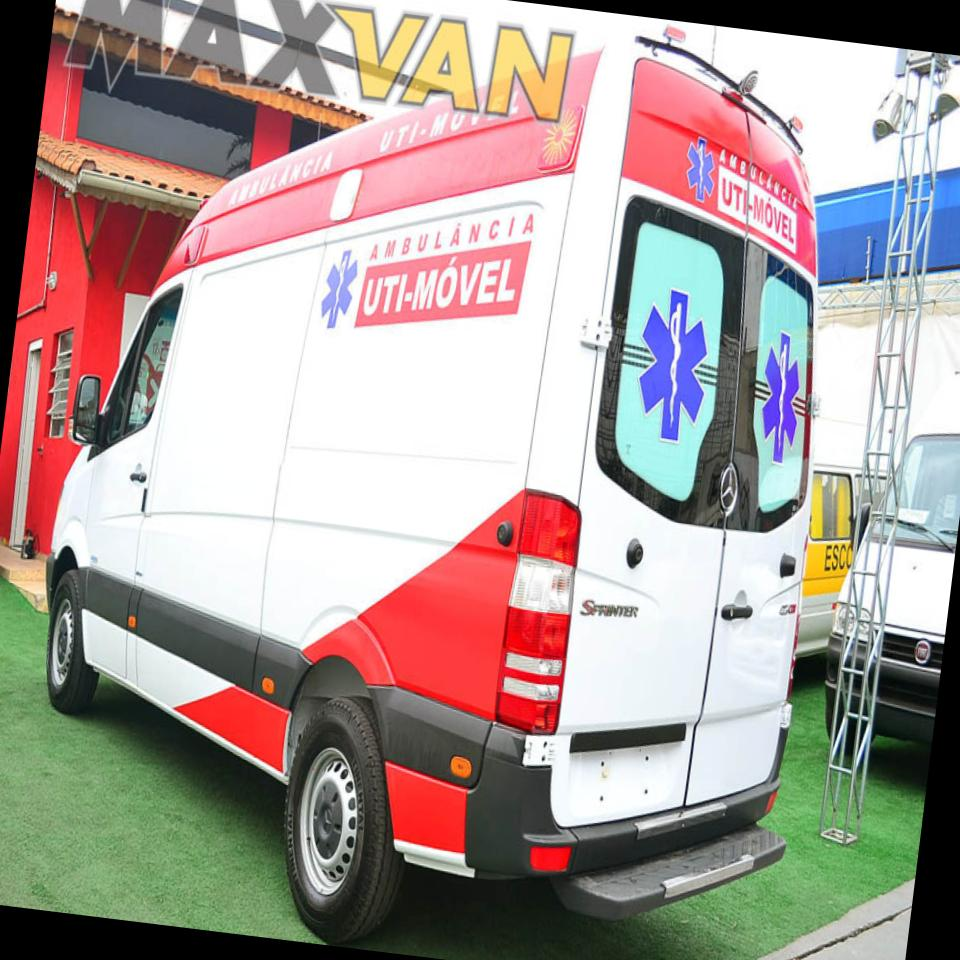bombeiro: (0, 0, 884, 960)
